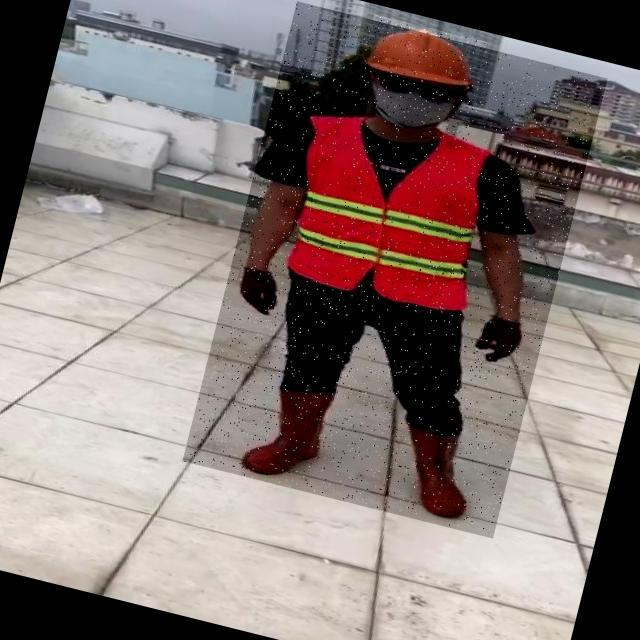Gloves: (229, 264, 282, 318), (473, 313, 526, 366)
Helmet: (360, 14, 487, 98)
Human: (182, 2, 607, 539)
Safety Boot: (380, 415, 485, 522), (239, 378, 335, 487)
Safety Vest: (276, 104, 506, 319)
